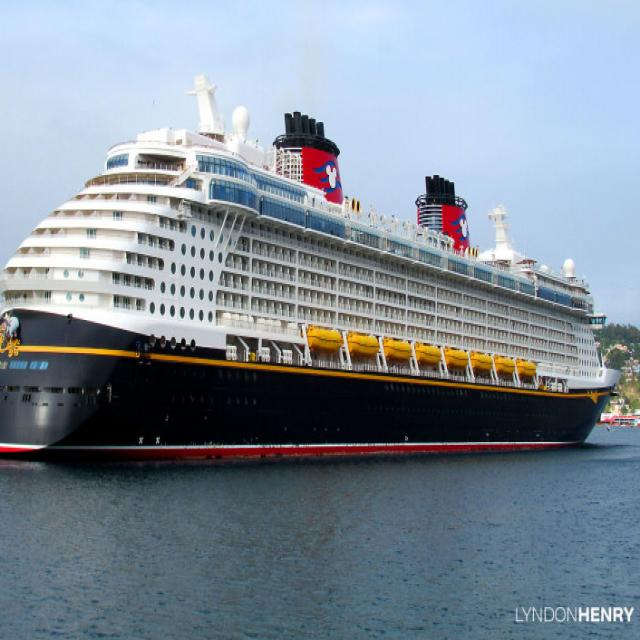cruises: (1, 70, 624, 470)
